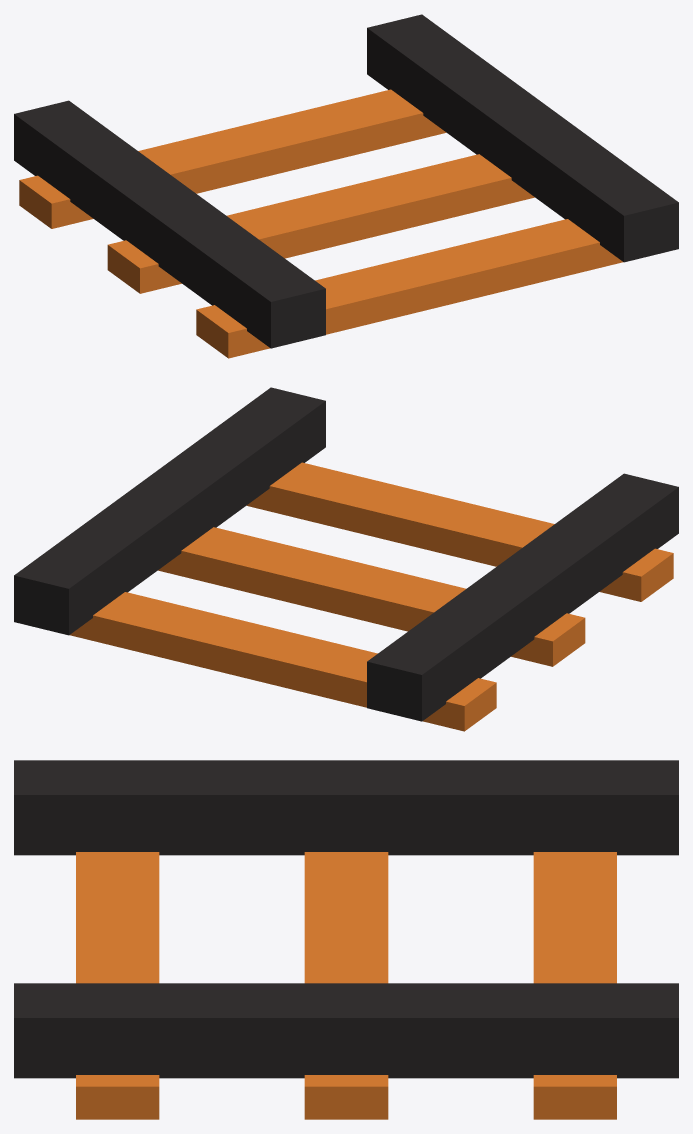
The model's file is Trilho.glb.
3 renders of one model, top to bottom at view 1: azimuth 30°, elevation 25°; view 2: azimuth 150°, elevation 25°; view 3: azimuth 270°, elevation 25°, orthographic. The views are drawn at different scales.
Parts seen in each view (by area): view 1: Trilho; view 2: Trilho; view 3: Trilho.
Boxes of the visible parts, box(x1,y1,x2,y2) form: Trilho: box(14, 14, 678, 358); Trilho: box(14, 387, 678, 731); Trilho: box(14, 760, 678, 1119).
Size of the model in its own units: 1 by 0.1493 by 1.
